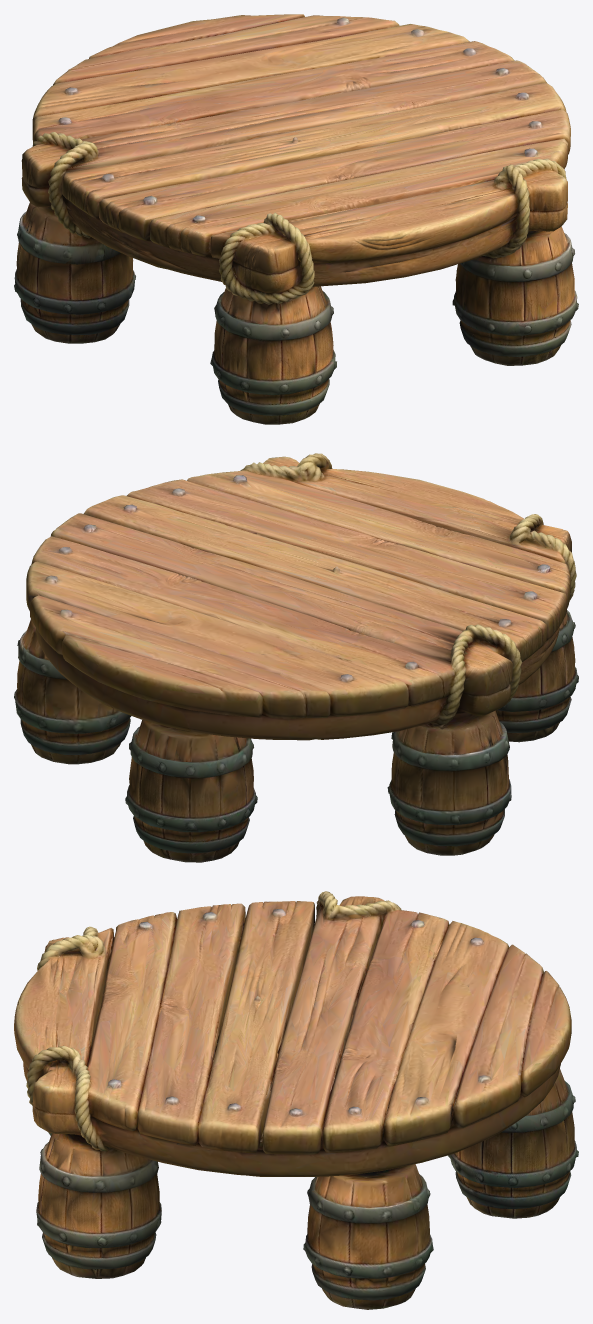
File: plat_yuvarlak.glb
The picture shows the model from 3 angles, top to bottom: view 1: azimuth 30°, elevation 25°; view 2: azimuth 150°, elevation 25°; view 3: azimuth 270°, elevation 25°; orthographic projection. The views are drawn at different scales.
Parts seen in each view (by area): view 1: tripo_node_02a7f522-b5a8-4110-814c-7213bb448e0c; view 2: tripo_node_02a7f522-b5a8-4110-814c-7213bb448e0c; view 3: tripo_node_02a7f522-b5a8-4110-814c-7213bb448e0c.
Boxes of the visible parts, x1=… form: tripo_node_02a7f522-b5a8-4110-814c-7213bb448e0c: x1=14, y1=14, x2=578, y2=424; tripo_node_02a7f522-b5a8-4110-814c-7213bb448e0c: x1=14, y1=453, x2=578, y2=862; tripo_node_02a7f522-b5a8-4110-814c-7213bb448e0c: x1=14, y1=891, x2=578, y2=1309.
Bounding box in the file's own units: 0.9771 × 0.3917 × 0.9804.
1 material, 1 textured.
